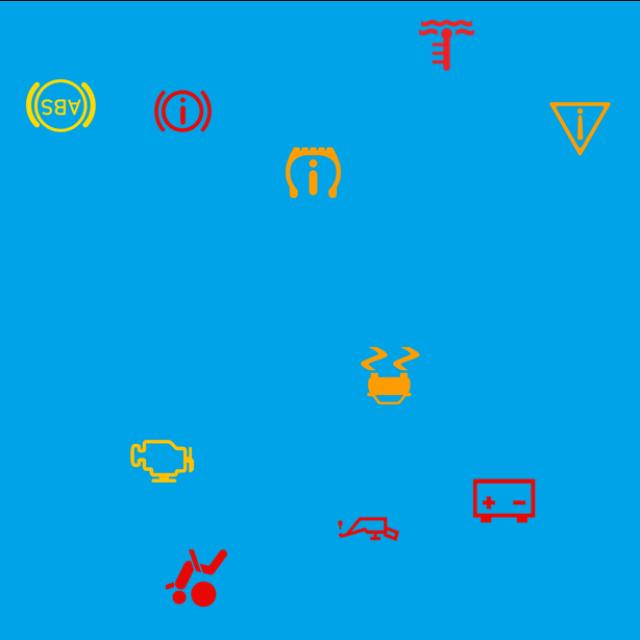Anti Lock Braking System: (23, 67, 99, 143)
Braking System Issue: (145, 72, 221, 148)
Charging System Issue: (466, 462, 542, 538)
Check Engine: (124, 422, 200, 498)
Electronic Stability Problem -ESP-: (352, 337, 428, 412)
Engine Overheating Warning Light: (408, 7, 484, 82)
Low Engine Oil Warning Light: (331, 490, 406, 566)
Low Tire Pressure Warning Light: (275, 133, 351, 210)
Master warning light: (542, 90, 618, 166)
SRS-Airbag: (158, 539, 234, 615)
